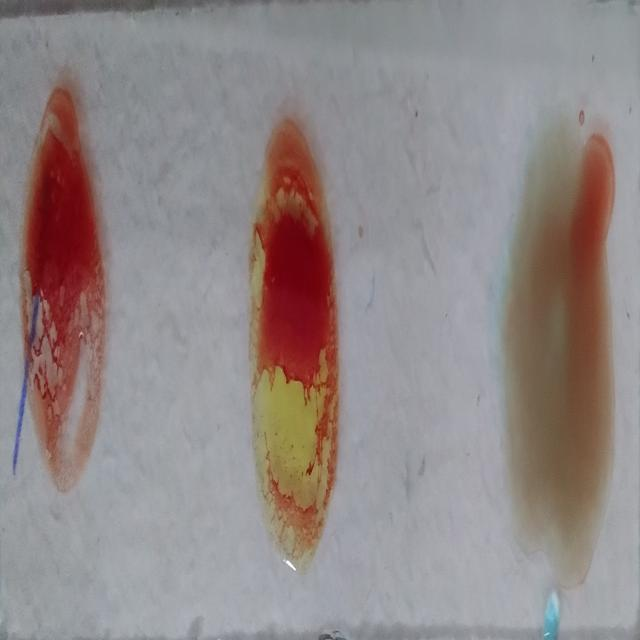B: (250, 125, 339, 570)
D: (22, 80, 105, 484)
